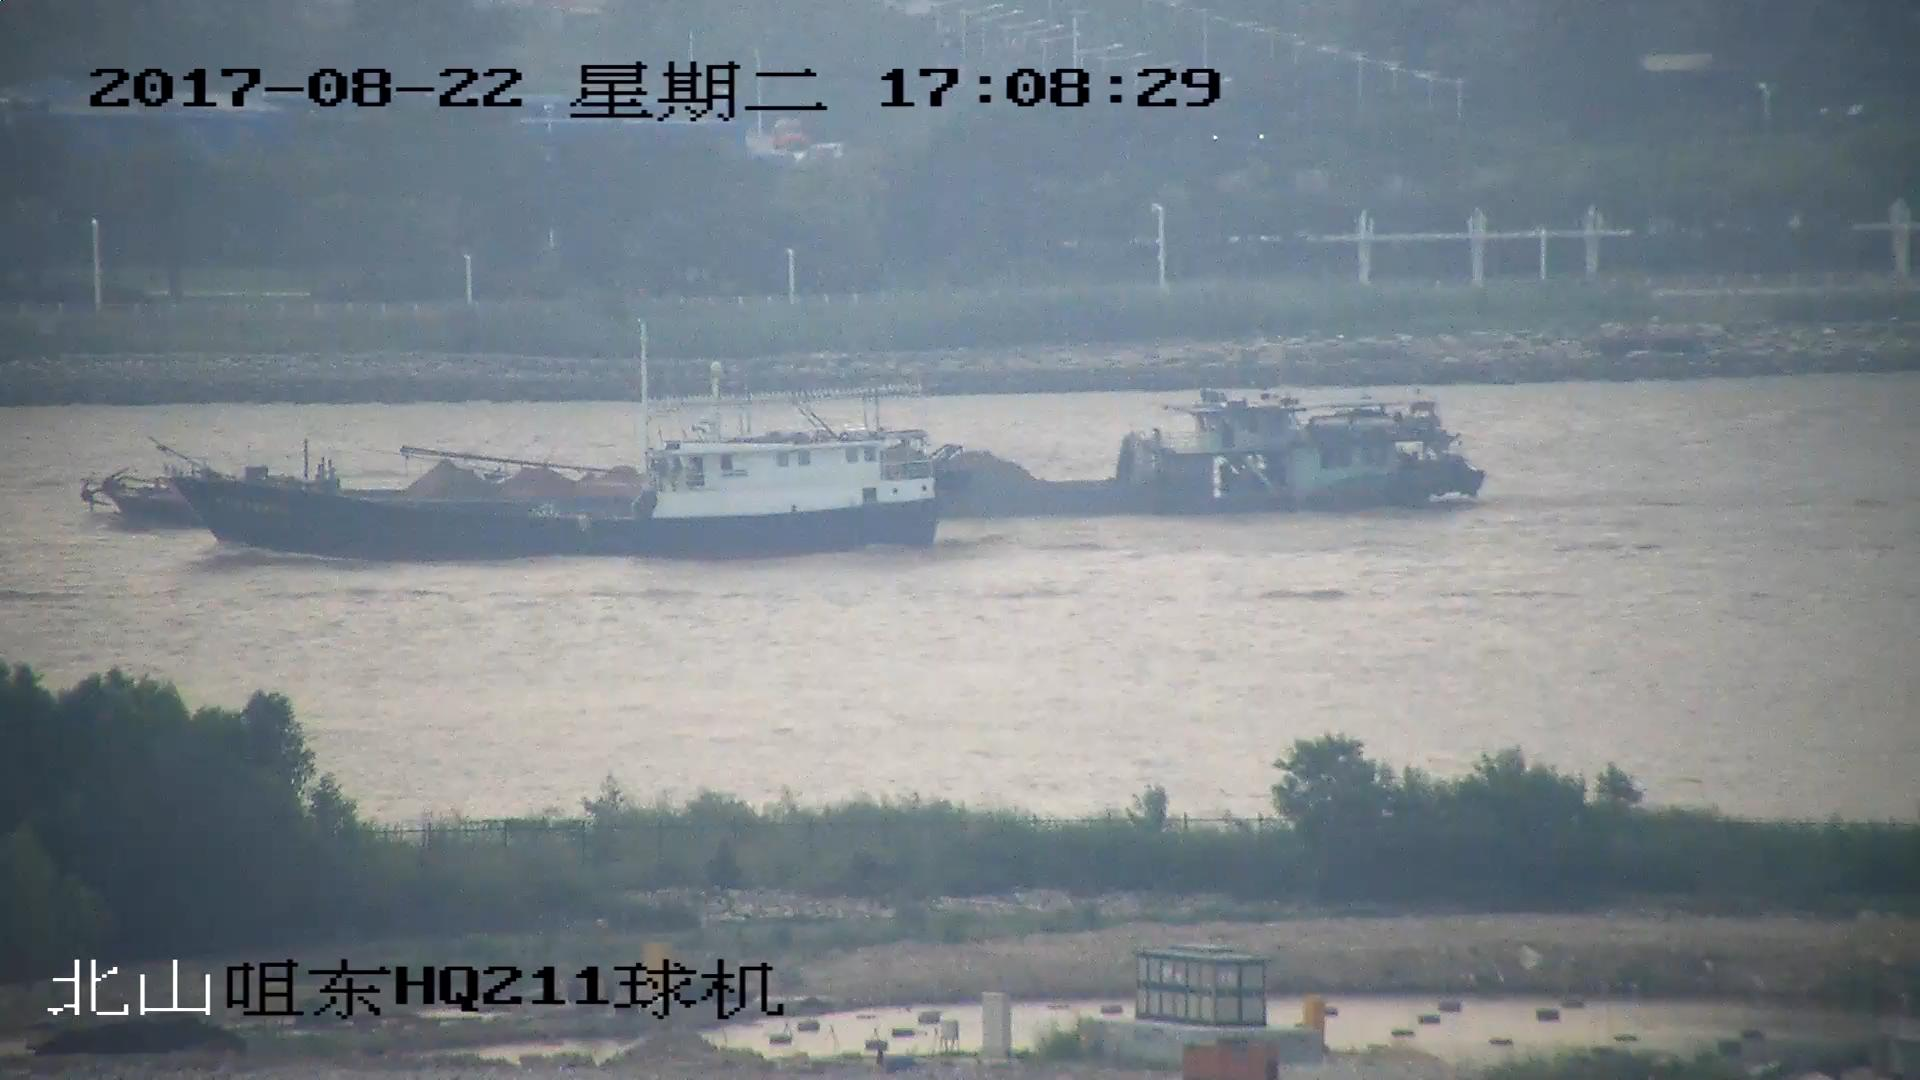fishing boat: (182, 371, 936, 556)
ore carrier: (87, 388, 1484, 525)
